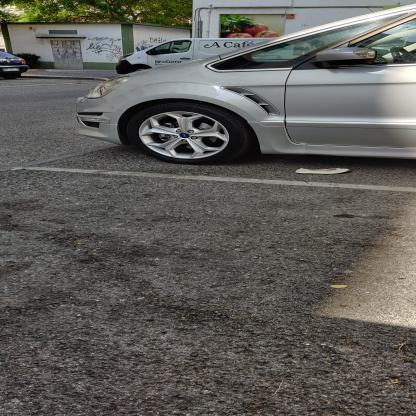kopuk: (296, 169, 351, 176)
